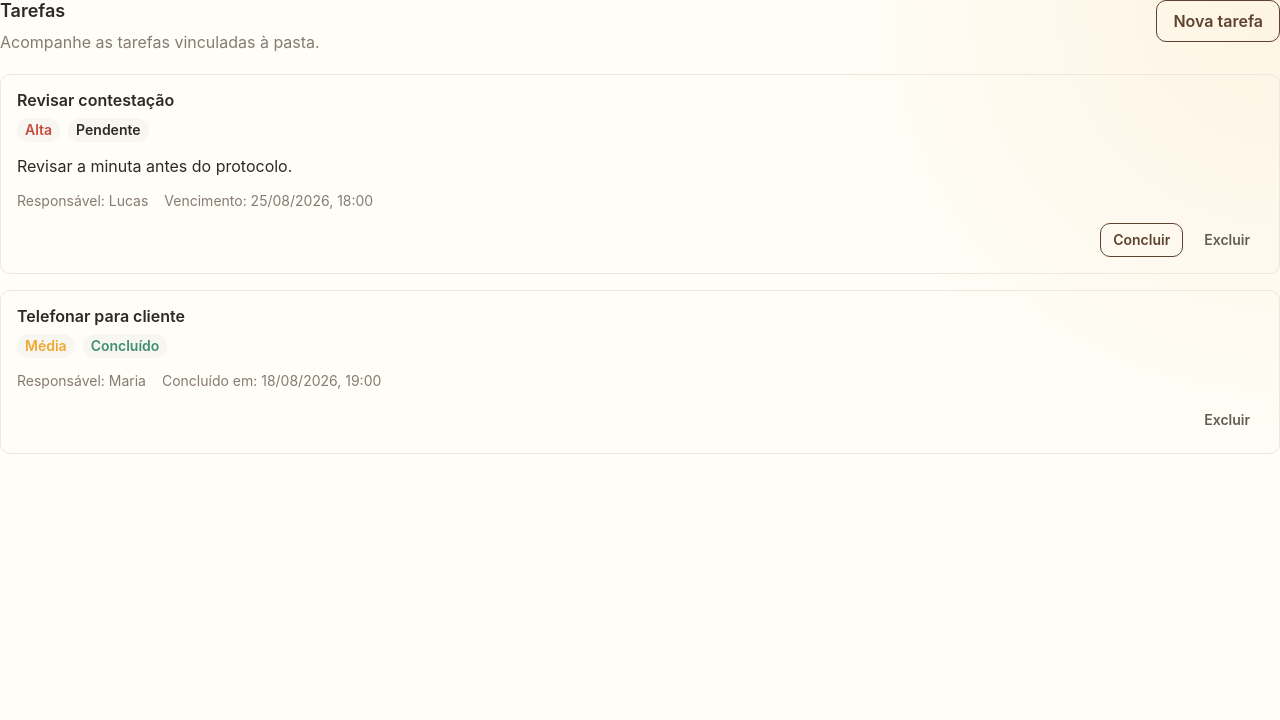
Test: FolderTasks › cancela exclusão sem remover tarefa
Click the 1st button "Excluir". click: (1227, 240)
box: [1191,223,1263,257]
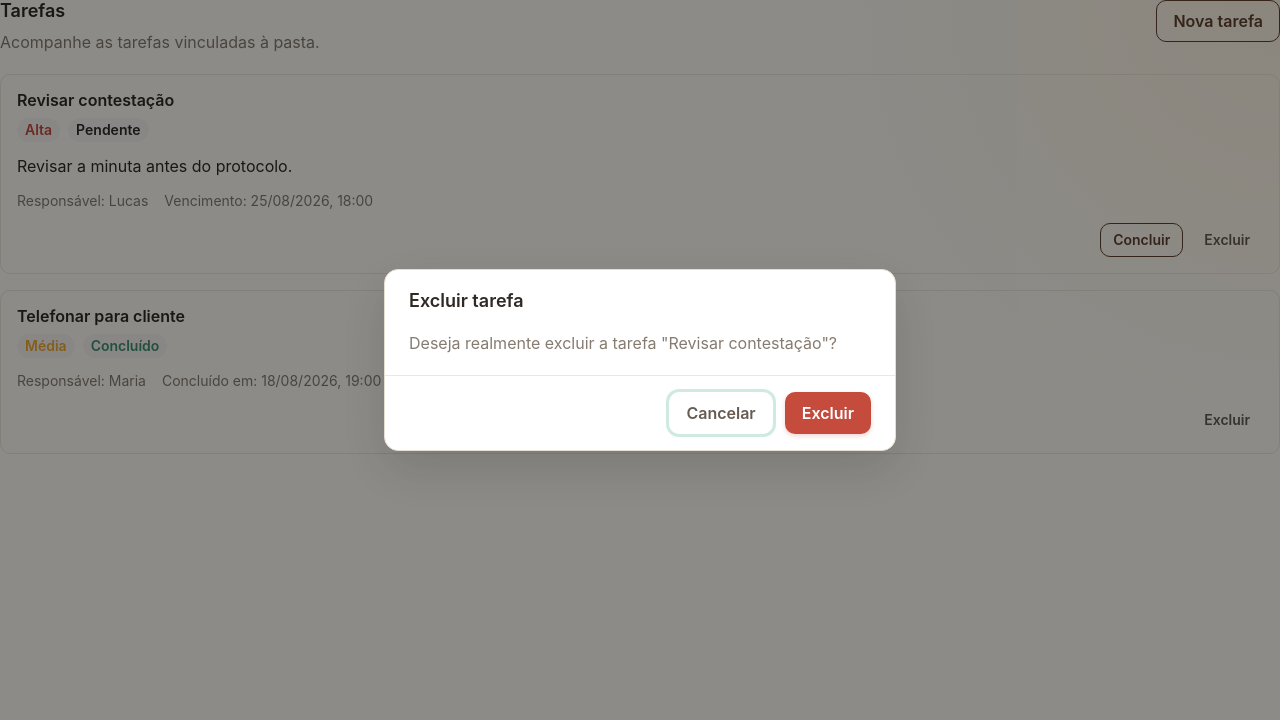
Check: the button "Cancelar" is shown
Click the button "Cancelar". click: (721, 413)
box: [669,392,773,434]
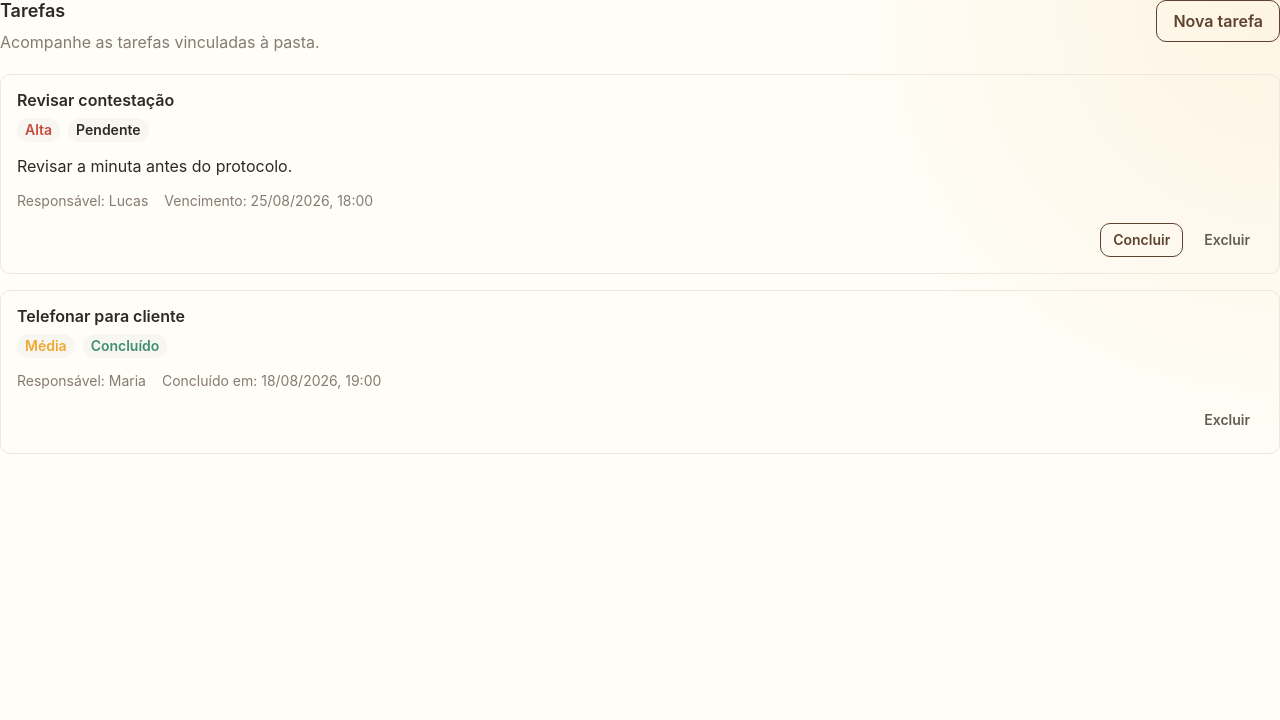
Check: the element with class "app-confirm-dialog" is gone
